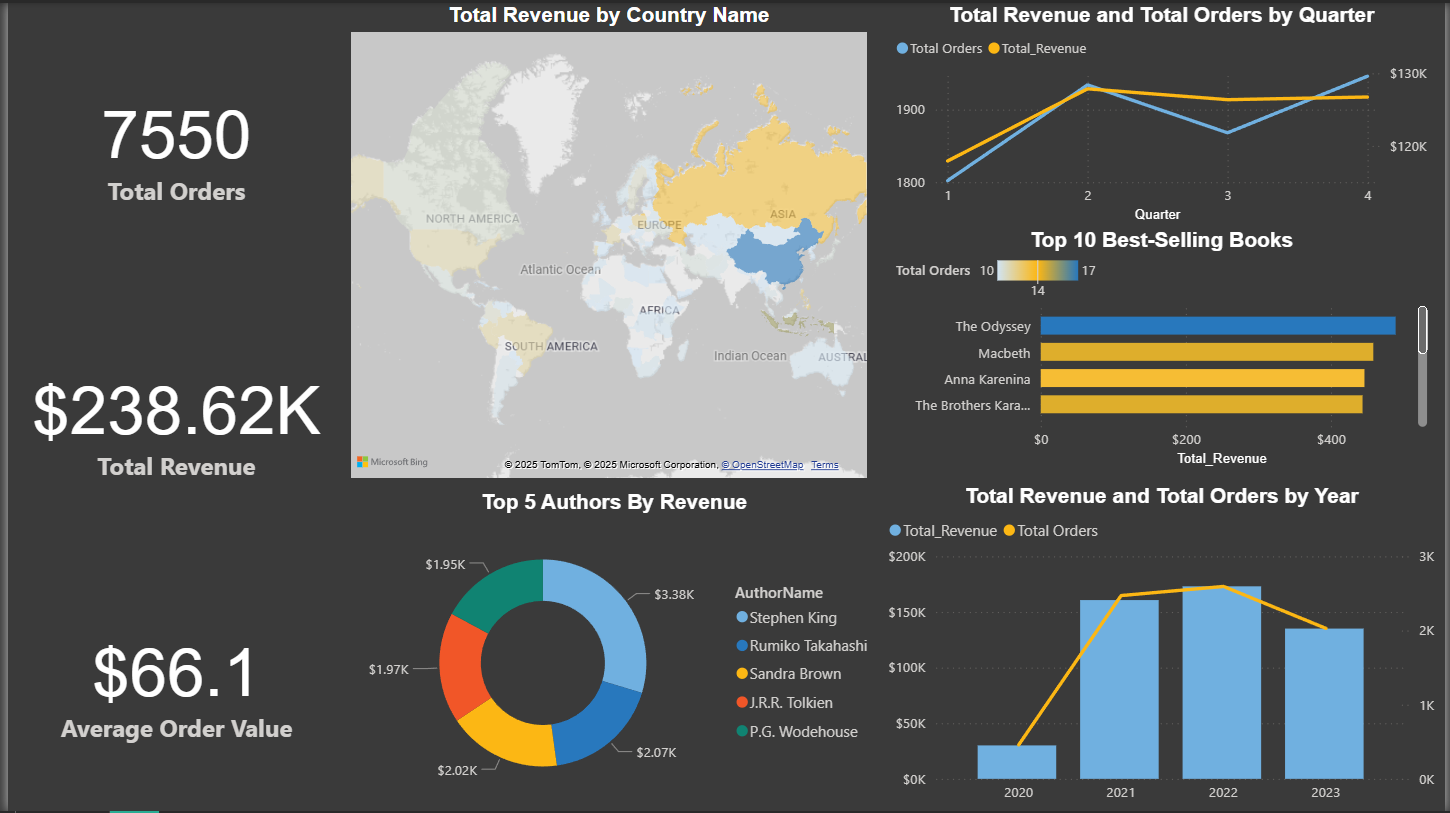

The page's visual inventory and layout, read from the dashboard file:
{"tool":"powerbi","page":{"name":"Page 1","canvas":[1280,720],"ordinal":0},"visuals":[{"type":"card","fields":{"Values":["SalesFact.Total Orders"]},"box":[0,0,300.5,253.9],"z":0},{"type":"card","title":"Total Revenue","fields":{"Values":["SalesFact.Total Revenue"]},"box":[0,253.9,300.5,237.4],"z":1000},{"type":"card","fields":{"Values":["SalesFact.Average Order Value"]},"box":[0,491.3,300.5,229.2],"z":2000},{"type":"barChart","title":"Top 10 Best-Selling Books","fields":{"Category":["DimBook.BookTitle"],"Y":["SalesFact.Total_Revenue"]},"box":[770.3,434.1,498.7,286.1],"z":4000},{"type":"donutChart","title":"Top 5 Authors By Revenue","fields":{"Category":["DimAuthor.AuthorName"],"Y":["SalesFact.Author Revenue"]},"box":[300.6,434.1,469.8,286.1],"z":5000},{"type":"lineChart","title":"Total Revenue and Total Orders by Quarter","fields":{"Category":["Dim_Date.Quarter"],"Y":["SalesFact.Total Orders"],"Y2":["SalesFact.Total_Revenue"]},"box":[770.3,0,498.7,200.4],"z":6000},{"type":"filledMap","title":"Total Revenue by Country Name","fields":{"Category":["DimAddress.CountryName"]},"box":[300.5,0,469.3,428.1],"z":7000},{"type":"lineStackedColumnComboChart","title":"Total Revenue and Total Orders by Year","fields":{"Category":["Dim_Date.Year","Dim_Date.MonthName"],"Y2":["SalesFact.Total Orders"],"Y":["SalesFact.Total_Revenue"]},"box":[770.3,198.1,496.5,230.4],"z":7001}]}

Visuals, with their boxes in screenshot pixels (x1, y1, x2, y2), scaled from the page's 1280x720 canvas onto the 1450x813 screenshot:
card - SalesFact.Total Orders: detection(0, 0, 340, 287)
"Total Revenue" card: detection(0, 287, 340, 555)
card - SalesFact.Average Order Value: detection(0, 555, 340, 812)
"Top 10 Best-Selling Books" barChart: detection(873, 490, 1438, 812)
"Top 5 Authors By Revenue" donutChart: detection(341, 490, 873, 812)
"Total Revenue and Total Orders by Quarter" lineChart: detection(873, 0, 1438, 226)
"Total Revenue by Country Name" filledMap: detection(340, 0, 872, 483)
"Total Revenue and Total Orders by Year" lineStackedColumnComboChart: detection(873, 224, 1435, 484)
